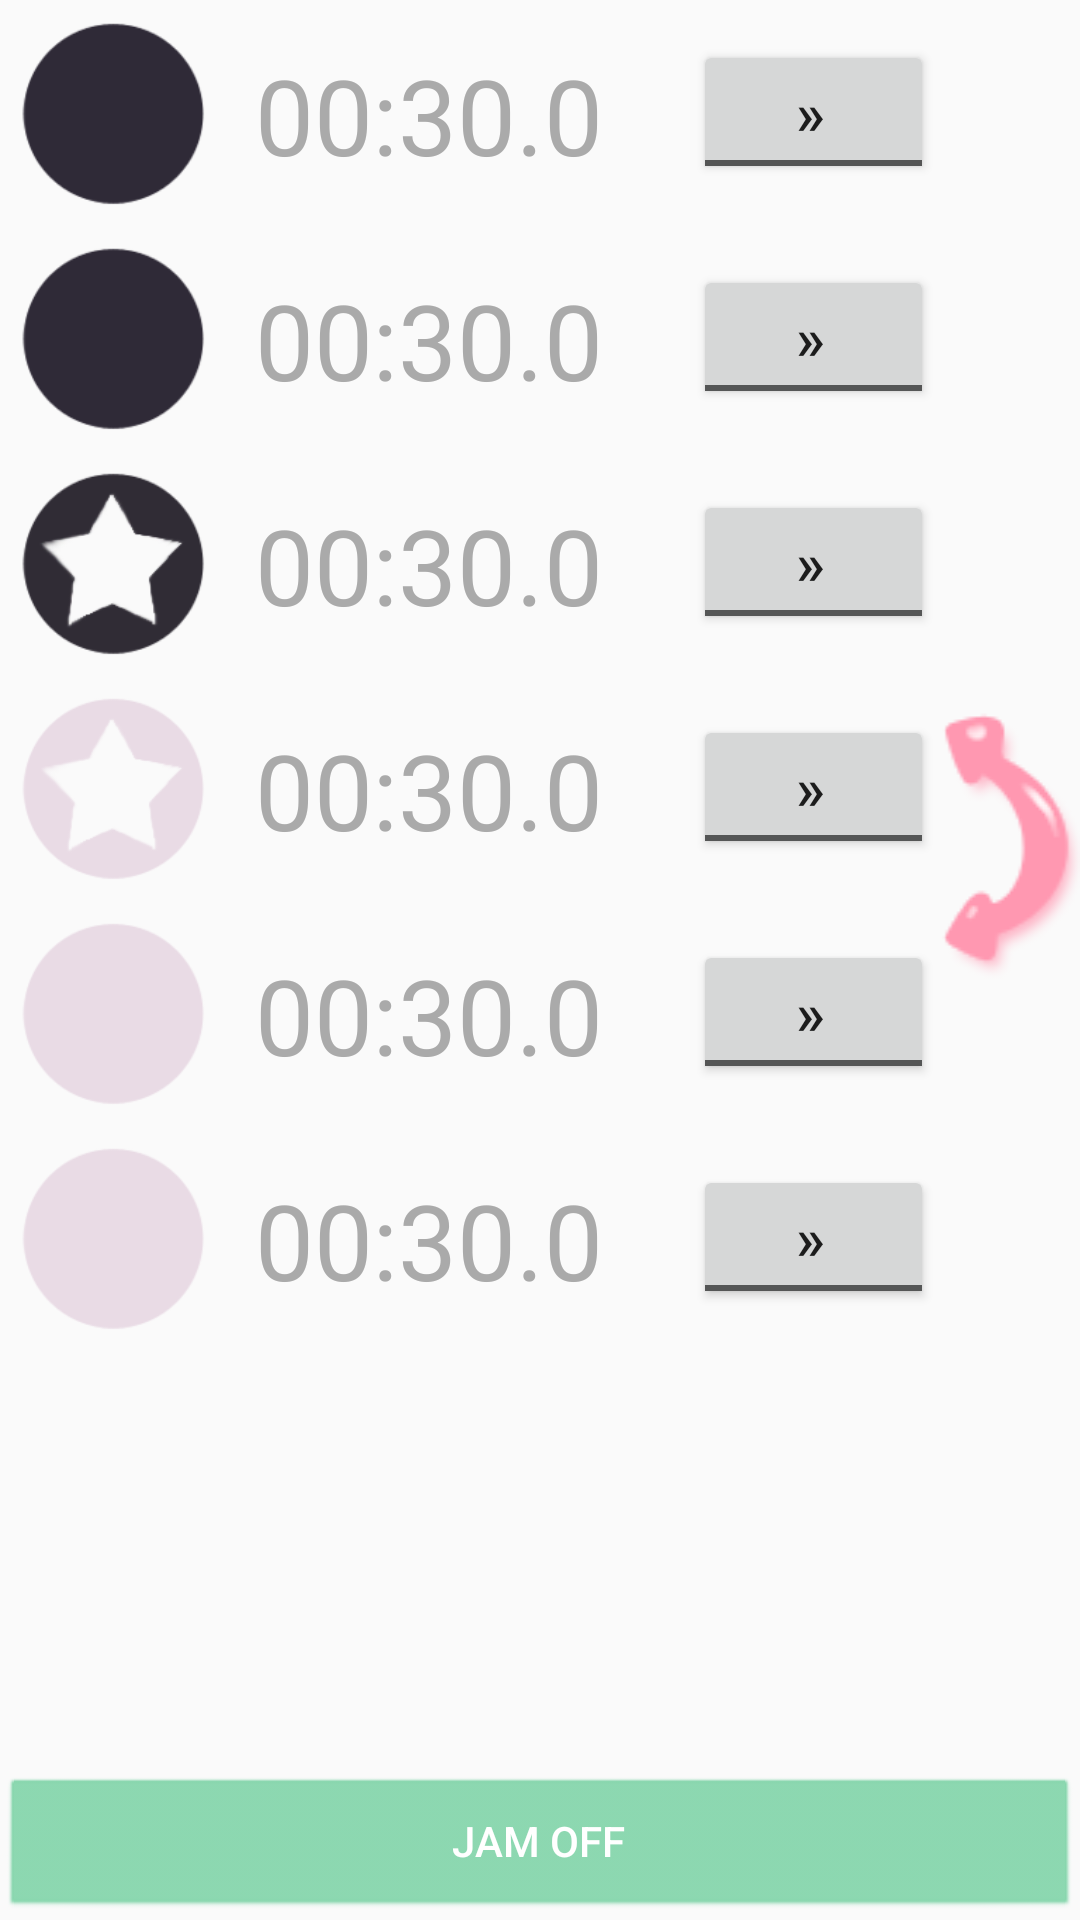

Point at icon controls on the screen. Image size 1080w x 1920h, points as point (x, y).
swap: point (1009, 841)
